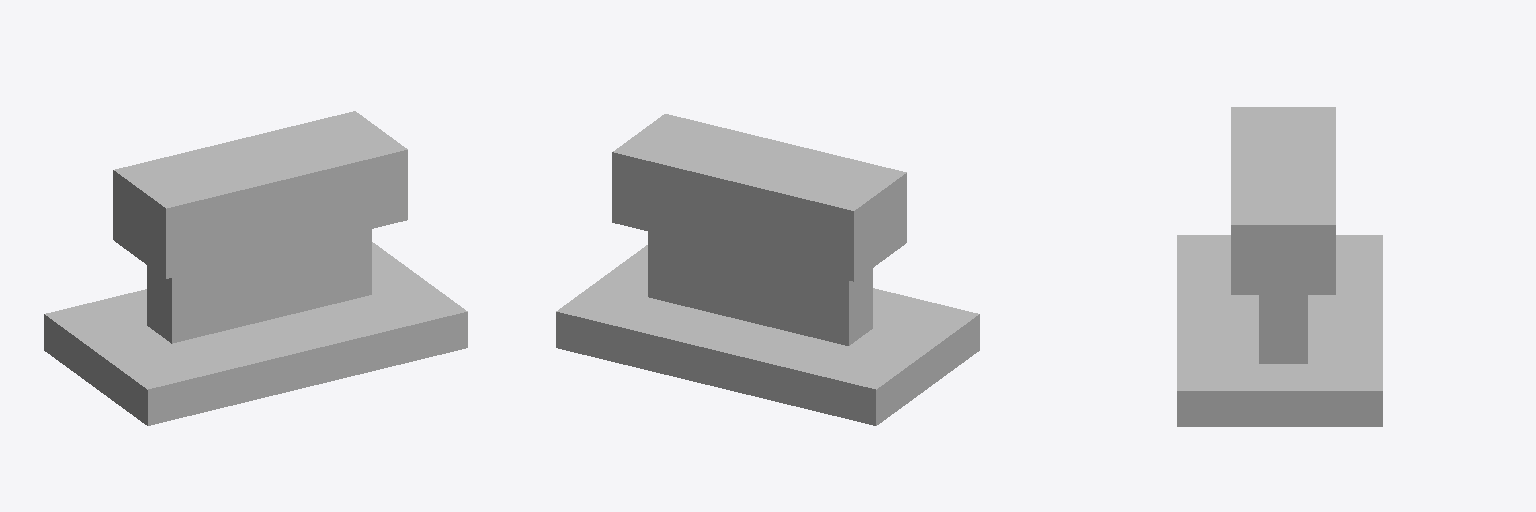
Rendered from anvil.obj.
3 renders of one model, left to right at view 1: azimuth 30°, elevation 25°; view 2: azimuth 150°, elevation 25°; view 3: azimuth 270°, elevation 25°, orthographic.
Visible parts, largest first — view 1: Cube, Cube.002, Cube.001; view 2: Cube, Cube.002, Cube.001; view 3: Cube, Cube.002, Cube.001.
Boxes of the visible parts, box(x1,y1,x2,y2) form: Cube: box(44, 242, 467, 425); Cube.002: box(113, 111, 407, 278); Cube.001: box(147, 229, 371, 343); Cube: box(556, 245, 979, 425); Cube.002: box(612, 114, 906, 281); Cube.001: box(648, 232, 872, 345); Cube: box(1177, 235, 1382, 426); Cube.002: box(1231, 107, 1335, 294); Cube.001: box(1259, 295, 1307, 363).
Bounding box in the file's own units: 0.8396 × 0.4677 × 0.4692.